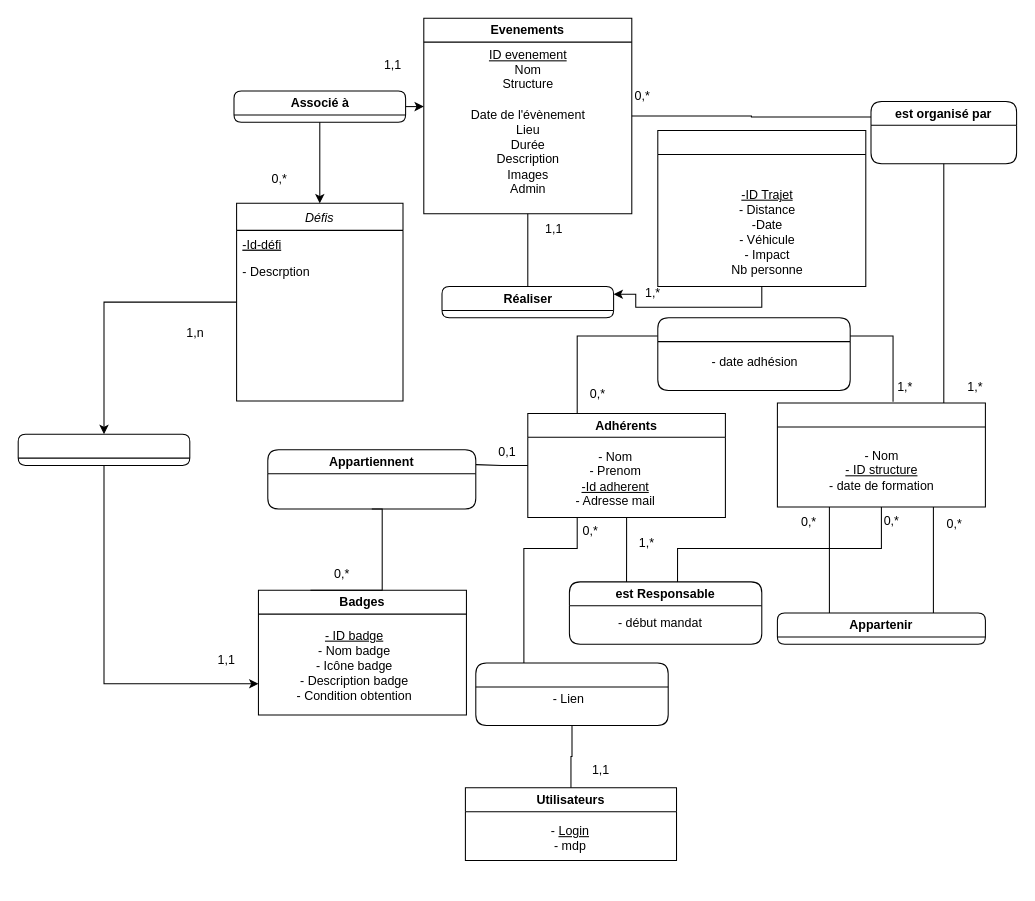
Image size: 1035x901. Some labels were removed from this diagram. Each missing label, with the box of its shape:
Adhérer: (657, 317, 850, 391)
Permet d'obtenir: (17, 433, 190, 465)
Représenté par: (475, 662, 668, 725)
Structures: (776, 402, 985, 507)
Trajets: (657, 129, 866, 287)
